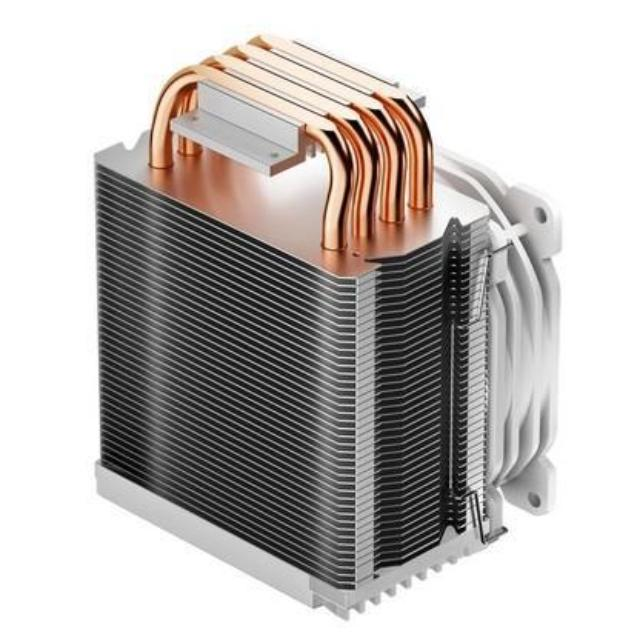CPU_Fan: (98, 20, 564, 611)
